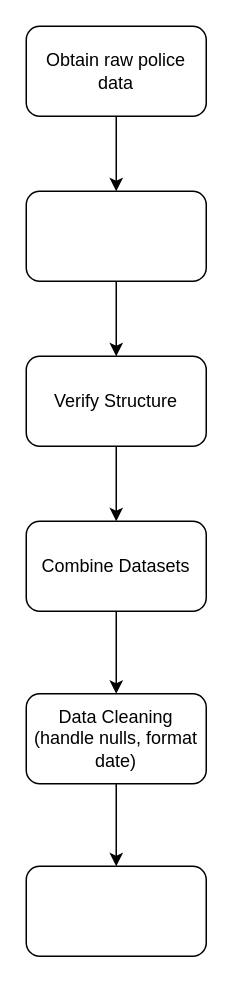
This 233x983 diagram has some shape labels left out. Here are the shapes that lost their labels. From the top down, the box of each, then its label:
(25, 190, 206, 281): Load CSV files in Jupyter notebook
(25, 865, 206, 956): Export Clean Dataset
